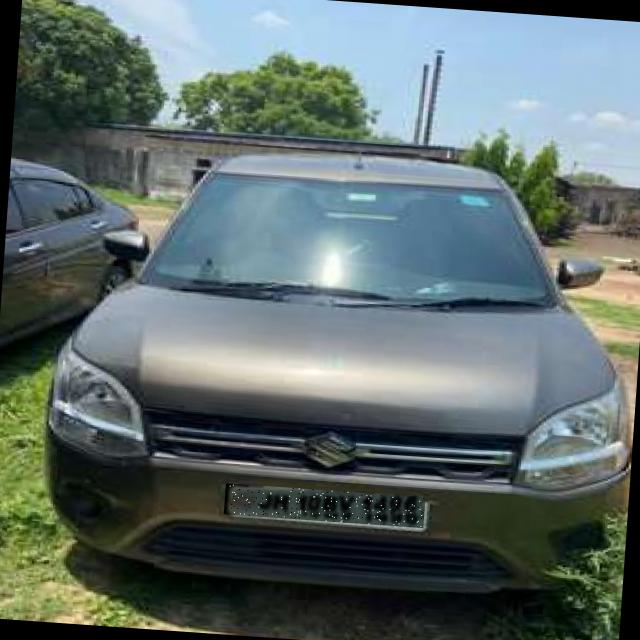Plate: (224, 484, 426, 529)
